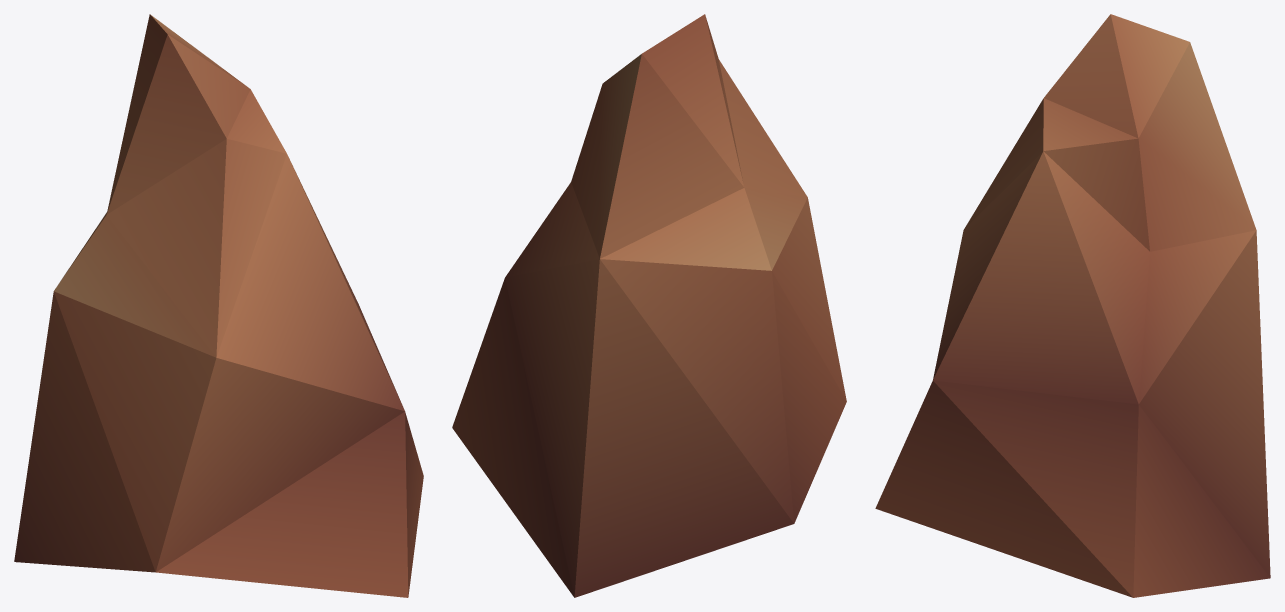
File: Mixed_Rock_02.fbx
3 views of the same model, side by side, from view 1: azimuth 30°, elevation 25°; view 2: azimuth 150°, elevation 25°; view 3: azimuth 270°, elevation 25° (orthographic). The views are drawn at different scales.
Parts seen in each view (by area): view 1: Rock_02.001; view 2: Rock_02.001; view 3: Rock_02.001.
Boxes of the visible parts, x1=… form: Rock_02.001: x1=14, y1=14, x2=423, y2=597; Rock_02.001: x1=452, y1=14, x2=846, y2=597; Rock_02.001: x1=875, y1=14, x2=1270, y2=597.
Bounding box in the file's own units: 193 × 279 × 185.
